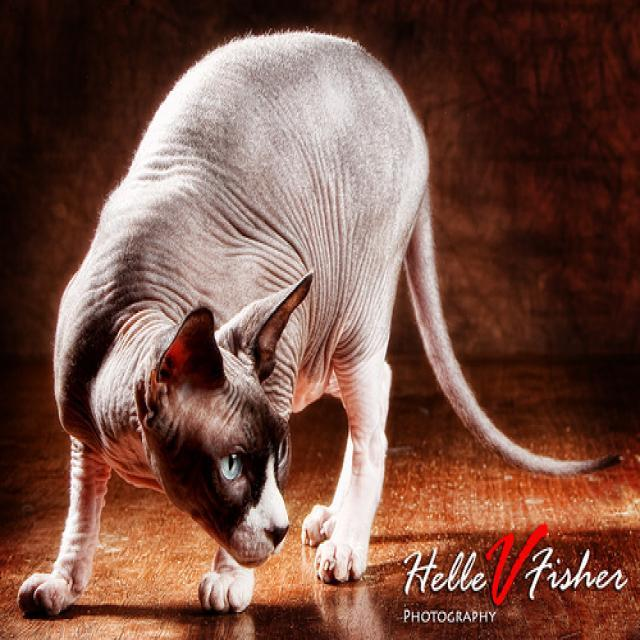Sphynx: (147, 267, 311, 565)
